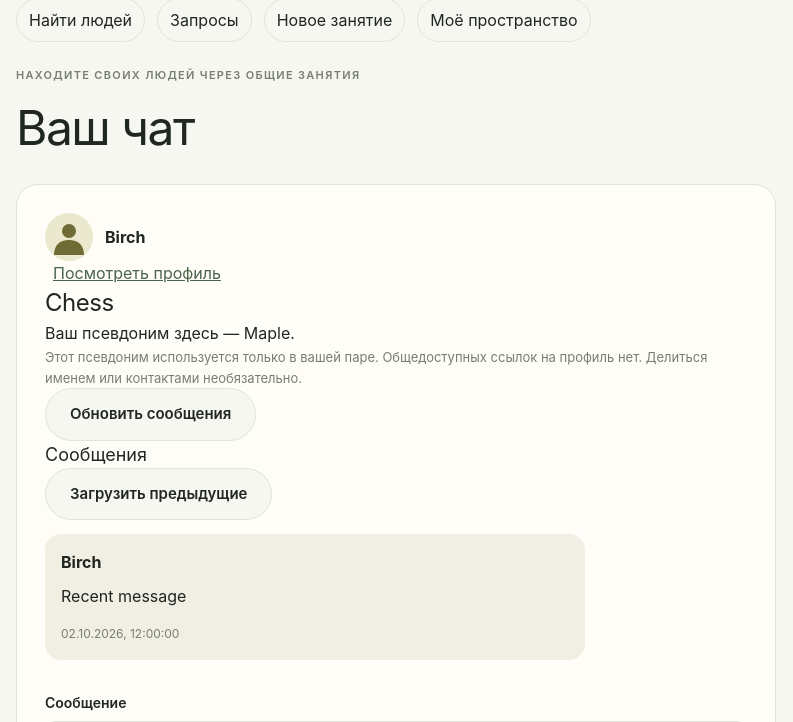
Test: refreshes a conversation automatically without hiding already loaded older history or duplicating messages
expect the text "Recent message" is shown: met, box [61,586,186,606]
Click the button "Загрузить предыдущие" at (159, 494), box [45,468,272,520]
(page scrolled)
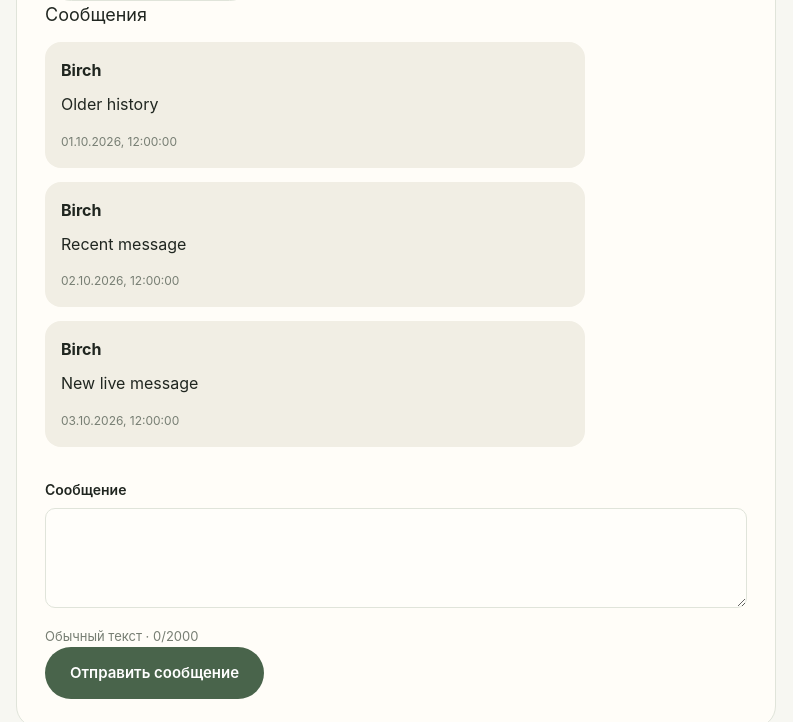
expect the text "Older history" is shown: met, box [61,94,158,114]
expect the text "Recent message" is shown once: met, box [61,234,186,254]
expect the text "New live message" is shown: met, box [61,373,198,393]
